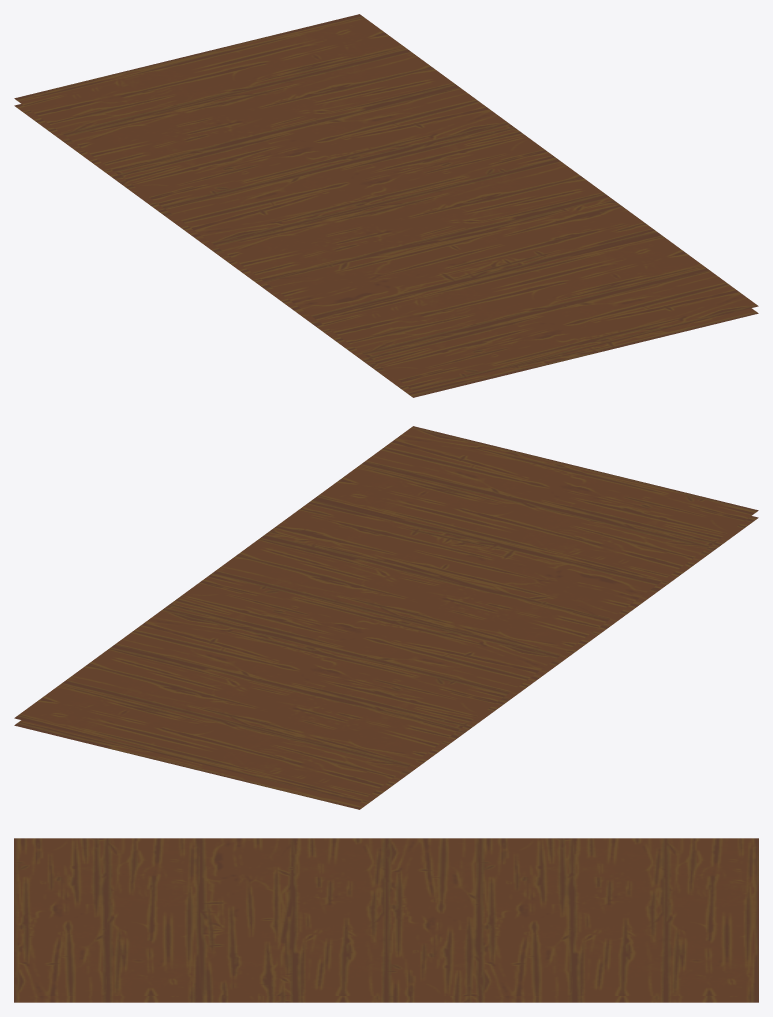
The model's file is Floor_WoodDark_Half1.obj.
3 views of the same model, one above another, from view 1: azimuth 30°, elevation 25°; view 2: azimuth 150°, elevation 25°; view 3: azimuth 270°, elevation 25° (orthographic). The views are drawn at different scales.
Visible parts, largest first — view 1: Floor_WoodDark_Half1; view 2: Floor_WoodDark_Half1; view 3: Floor_WoodDark_Half1.
Part boxes in pixels (box(x1,y1,x2,y2)): Floor_WoodDark_Half1: box(14, 14, 758, 397); Floor_WoodDark_Half1: box(14, 426, 758, 809); Floor_WoodDark_Half1: box(14, 838, 758, 1002).
Bounding box in the file's own units: 1 × 0.02 × 2.
